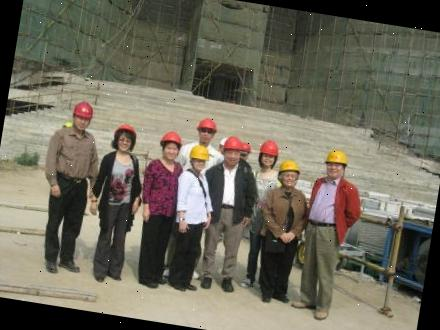helmet: (323, 146, 351, 168), (70, 100, 96, 120), (220, 133, 243, 154), (258, 139, 281, 159), (188, 144, 212, 163), (160, 130, 184, 148), (195, 116, 218, 134), (277, 158, 302, 174), (115, 123, 138, 139)
no_wear: (204, 162, 255, 230), (46, 126, 100, 188), (308, 176, 354, 230), (144, 158, 184, 220), (98, 152, 140, 210), (172, 168, 212, 228), (262, 185, 304, 242), (238, 140, 251, 154)
